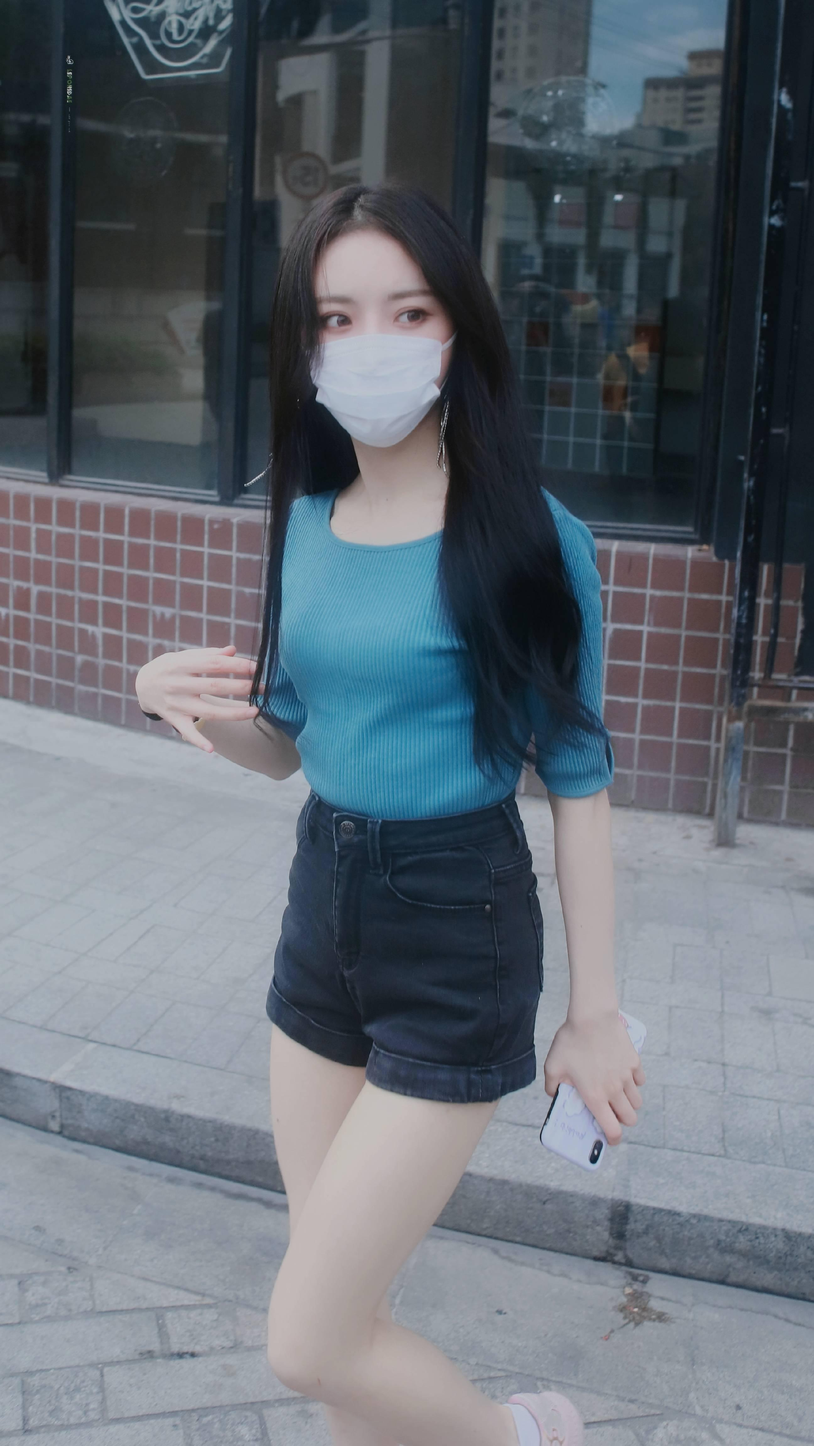OK: (313, 267, 445, 447)
